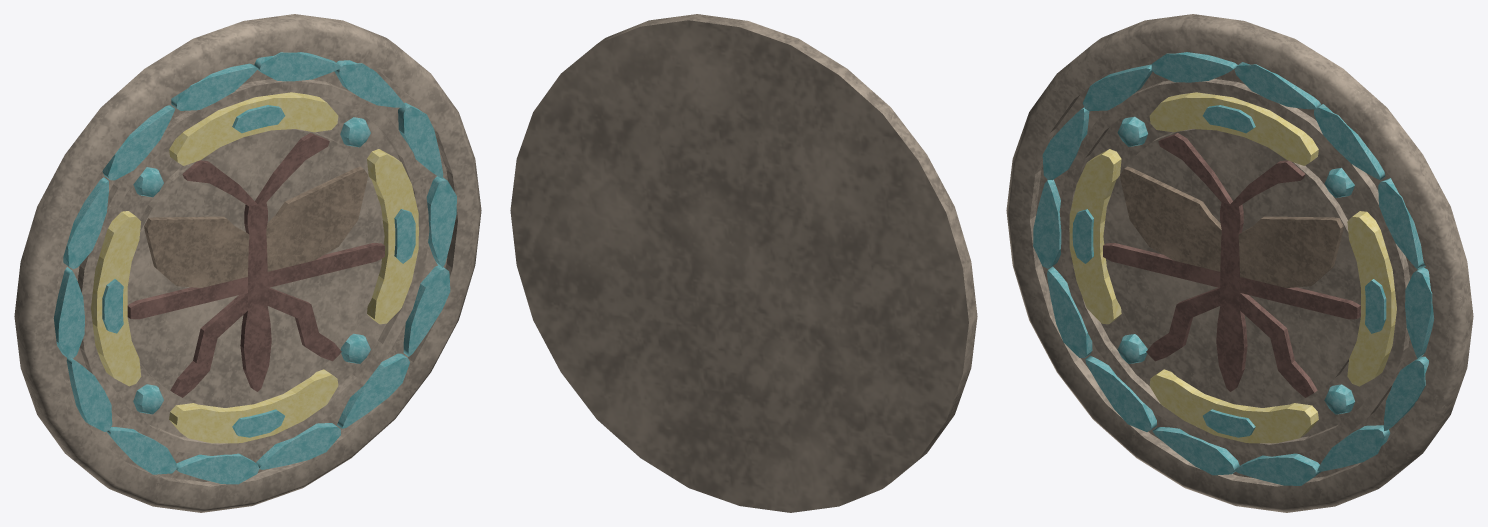
Rendered from stone_tablet.fbx.
3 renders of one model, left to right at view 1: azimuth 30°, elevation 25°; view 2: azimuth 150°, elevation 25°; view 3: azimuth 330°, elevation 25°, orthographic.
Parts seen in each view (by area): view 1: stone_tablet; view 2: stone_tablet; view 3: stone_tablet.
Boxes of the visible parts, x1=… form: stone_tablet: x1=14, y1=14, x2=481, y2=512; stone_tablet: x1=510, y1=14, x2=977, y2=512; stone_tablet: x1=1006, y1=14, x2=1473, y2=512.
Size of the model in its own units: 98.1 by 97.9 by 5.97.
1 material, 1 textured.
